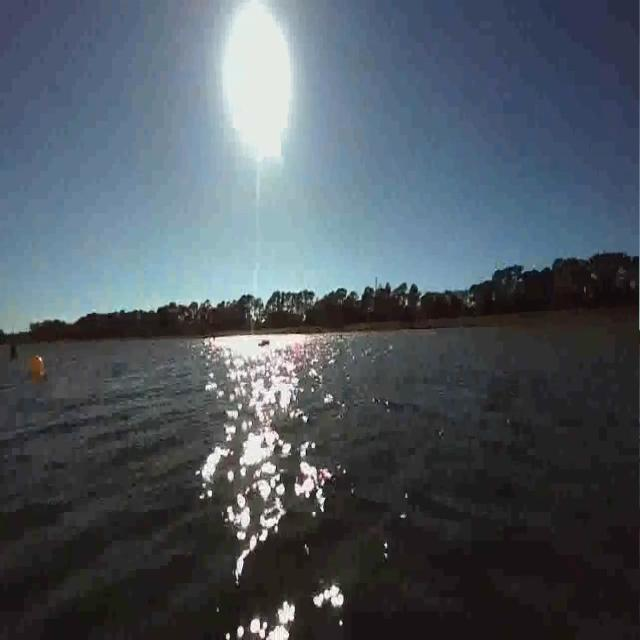yellow-buoy: (28, 351, 44, 377)
